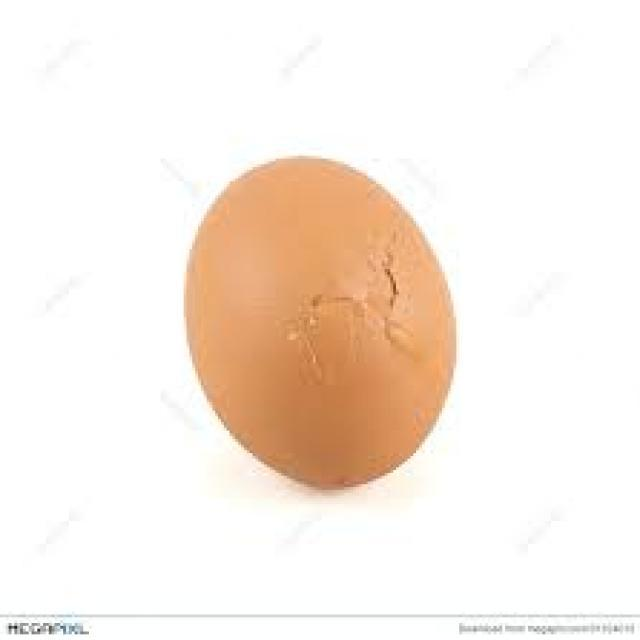biodegradable: (180, 154, 457, 486)
